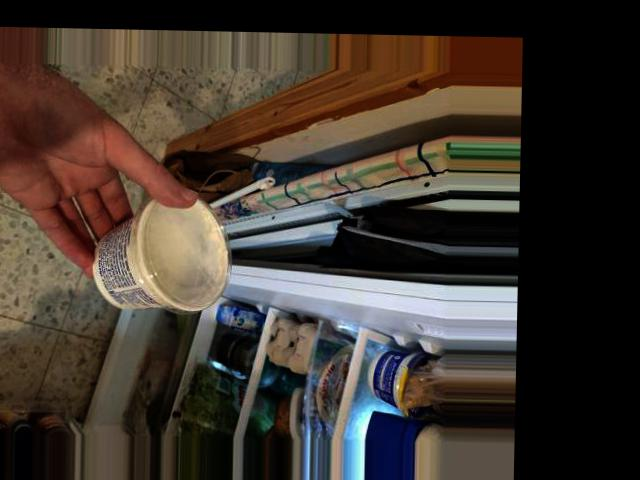cotage: (97, 190, 214, 305)
